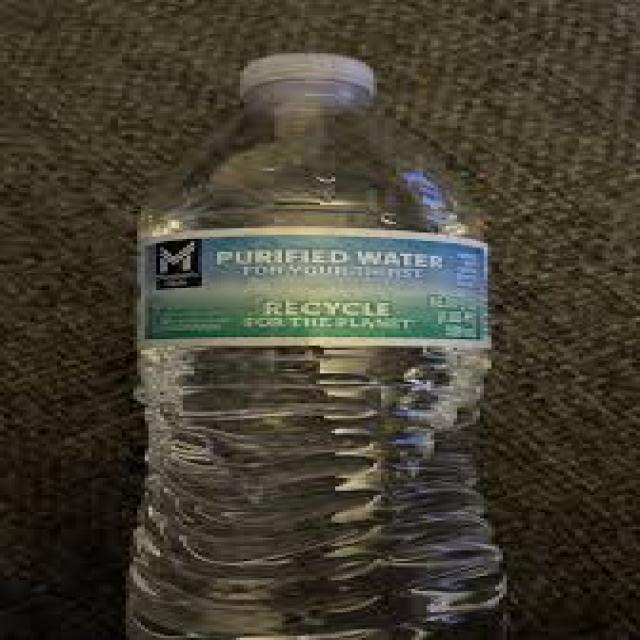plastic bottle: (119, 47, 529, 640)
